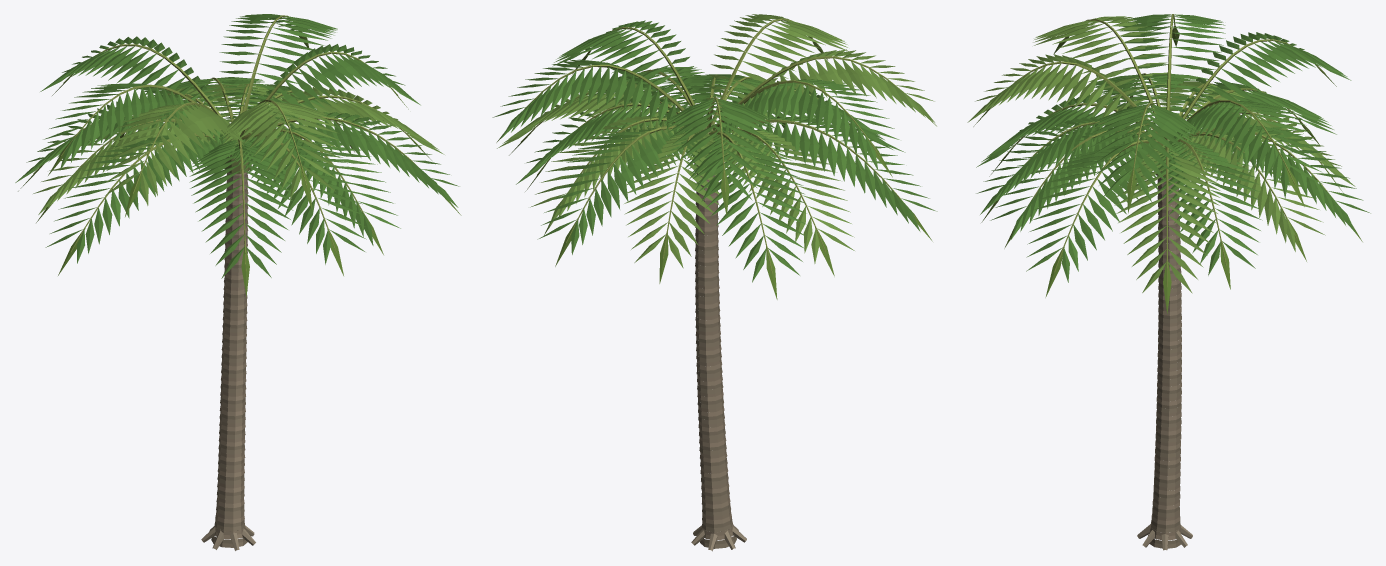
The model's file is campus-palm.glb.
3 renders of one model, left to right at view 1: azimuth 30°, elevation 25°; view 2: azimuth 150°, elevation 25°; view 3: azimuth 270°, elevation 25°, orthographic.
Parts seen in each view (by area): view 1: Palm_Foliage, Palm_Bark; view 2: Palm_Foliage, Palm_Bark; view 3: Palm_Foliage, Palm_Bark.
Part boxes in pixels (x1,y1,x2,y2): Palm_Foliage: [15, 14, 461, 297]; Palm_Bark: [33, 15, 421, 550]; Palm_Foliage: [492, 14, 937, 299]; Palm_Bark: [521, 18, 916, 551]; Palm_Foliage: [967, 14, 1370, 313]; Palm_Bark: [986, 14, 1333, 550].
Size of the model in its own units: 8.58 by 9.75 by 7.47.
